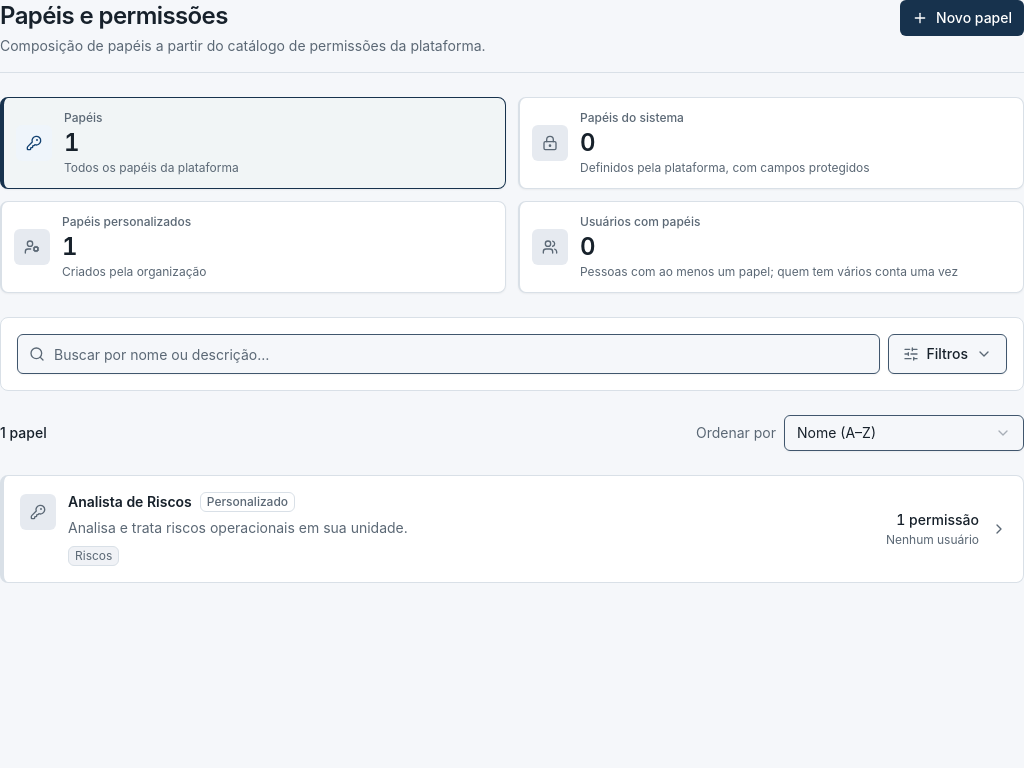
it: RoleAdminView — detail panel › reveals the real identifiers on demand and never rewrites them (FR-016)
The image size is (1024, 768).
Click the button named "Abrir detalhes do papel Analista de Riscos" at (178, 503), box [0,475,1023,583]
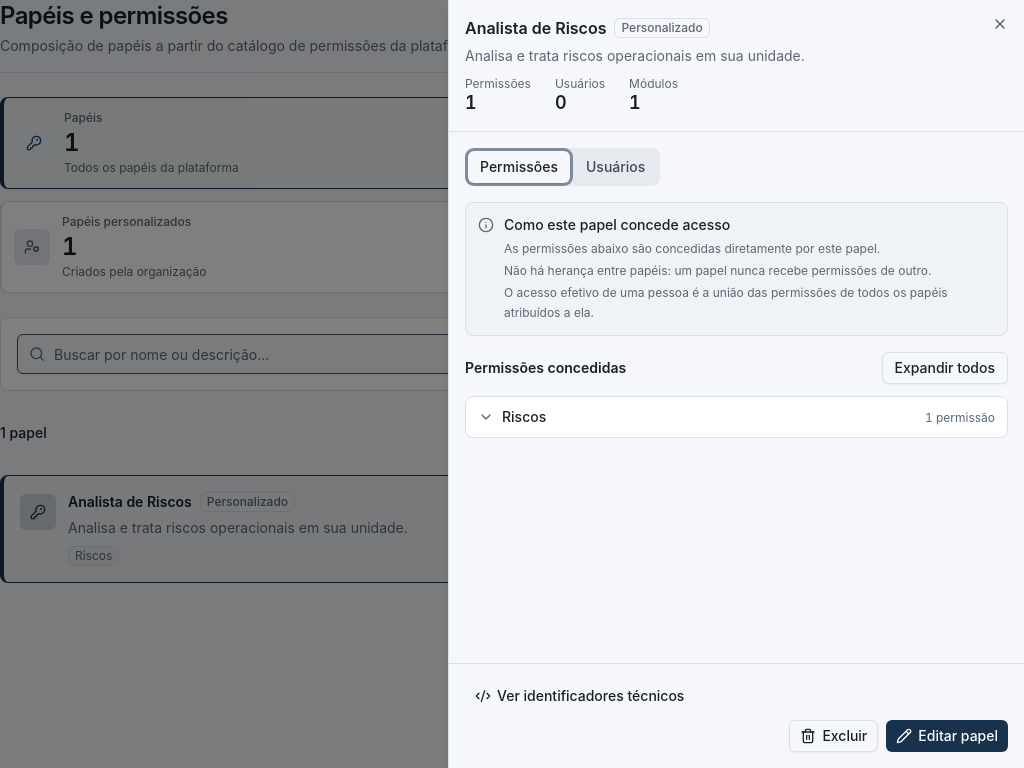
Click the button "Expandir todos" at (945, 368), box [882,352,1008,384]
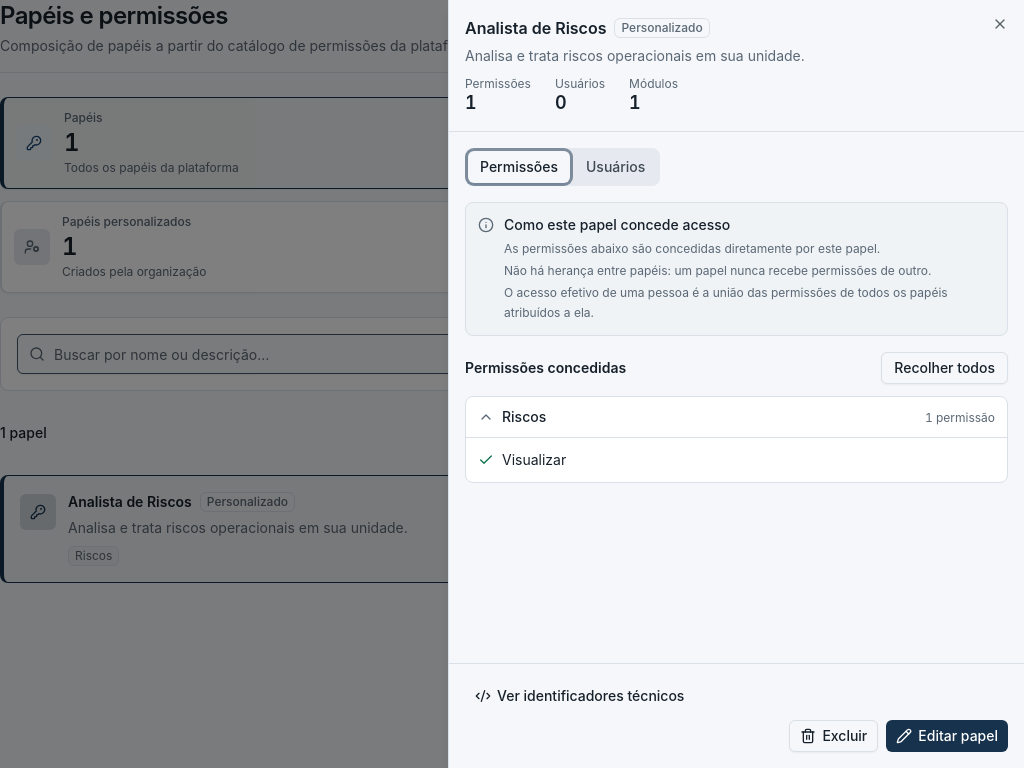
Expected: the text "risk:view" is not shown
Click the button "Ver identificadores técnicos" at (580, 696), box [465,680,694,712]
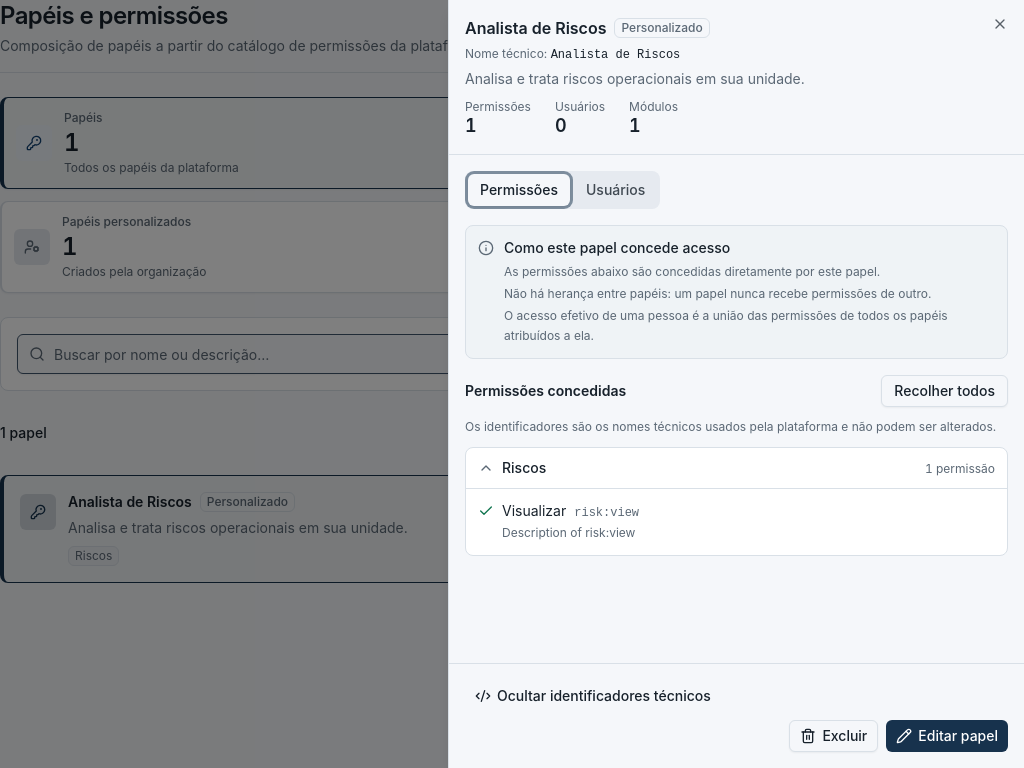
Expected: the text "risk:view" is shown, [574,504,639,520]
